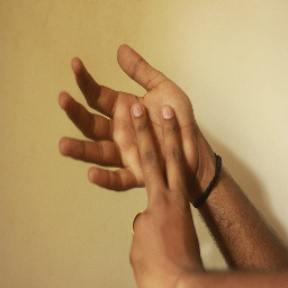N: (56, 33, 197, 270)
